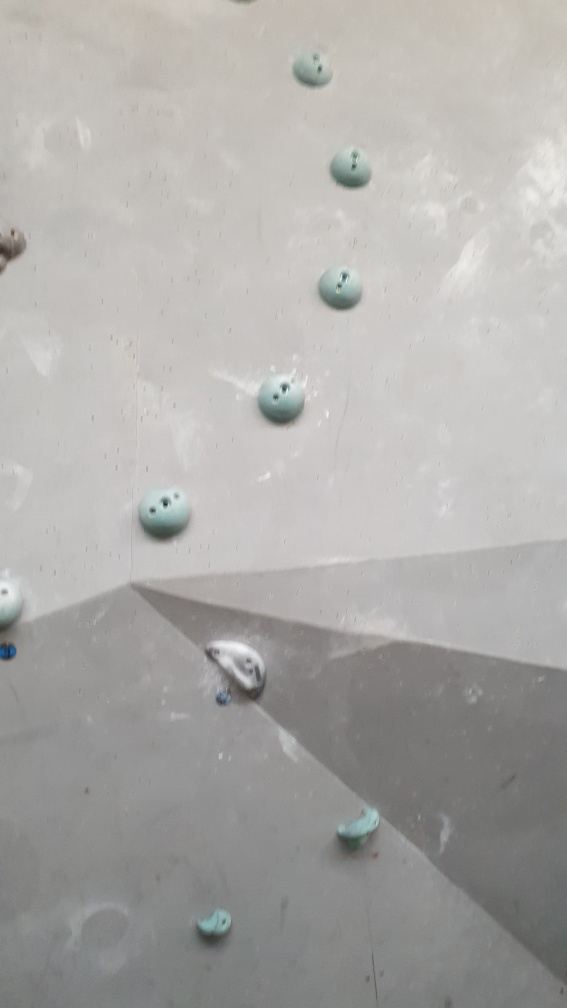Hand Start: (1, 639, 22, 662), (214, 687, 235, 709)
Sloper: (135, 482, 198, 542), (254, 368, 309, 423), (326, 141, 382, 194), (315, 262, 369, 315), (288, 44, 340, 91), (1, 582, 28, 634)
